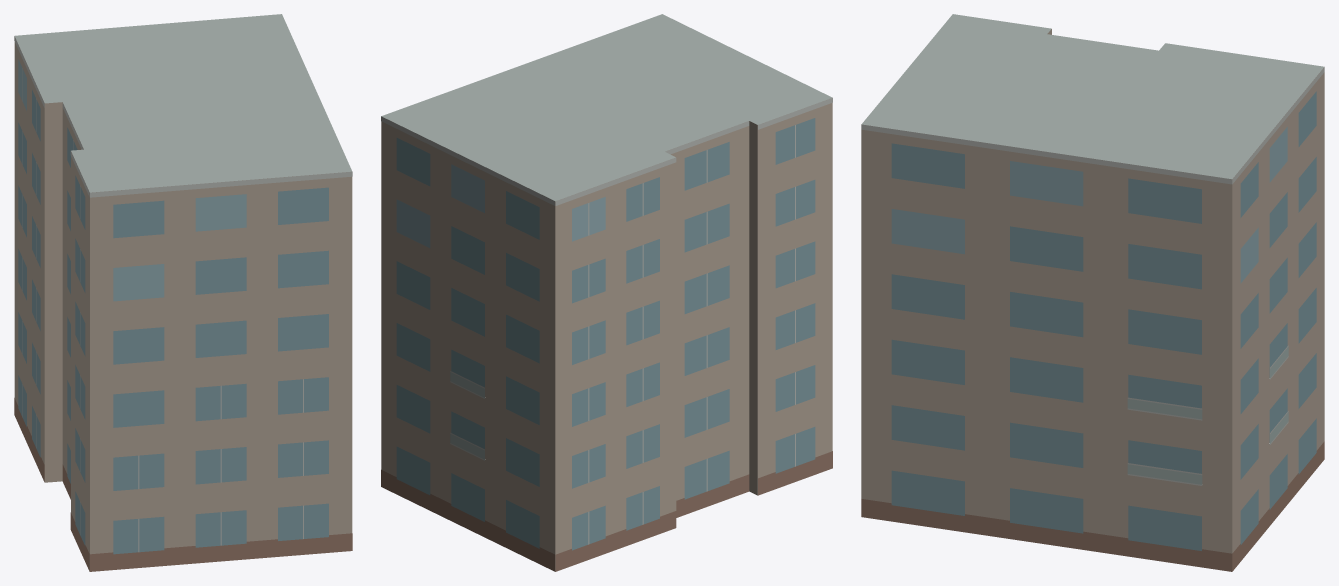
Rendered from survey-upis-32947519.glb.
3 views of the same model, side by side, from view 1: azimuth 30°, elevation 25°; view 2: azimuth 150°, elevation 25°; view 3: azimuth 270°, elevation 25° (orthographic). The views are drawn at different scales.
Visible parts, largest first — view 1: survey-upis-32947519.tmp; view 2: survey-upis-32947519.tmp; view 3: survey-upis-32947519.tmp.
Boxes of the visible parts, x1,y1,x2,y2 form: survey-upis-32947519.tmp: [14, 14, 352, 571]; survey-upis-32947519.tmp: [381, 14, 832, 571]; survey-upis-32947519.tmp: [861, 14, 1324, 571].
Size of the model in its own units: 16.53 by 18.3 by 19.58.
